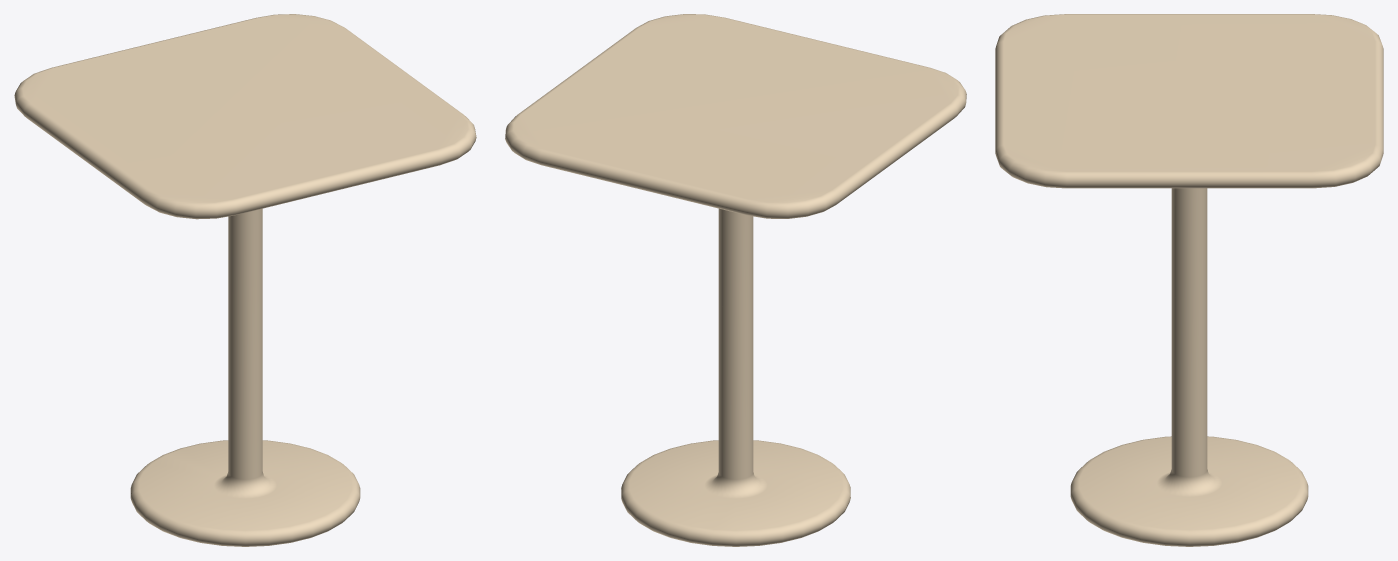
The model's file is HMI_Solo_Table_26D26W_3D.fbx.
3 views of the same model, side by side, from view 1: azimuth 30°, elevation 25°; view 2: azimuth 150°, elevation 25°; view 3: azimuth 270°, elevation 25° (orthographic). The views are drawn at different scales.
Visible parts, largest first — view 1: polySurface64; view 2: polySurface64; view 3: polySurface64.
Boxes of the visible parts, box(x1,y1,x2,y2) form: polySurface64: box(14, 14, 476, 546); polySurface64: box(505, 14, 966, 546); polySurface64: box(995, 14, 1383, 546).
Size of the model in its own units: 25.59 by 29.53 by 25.59.
